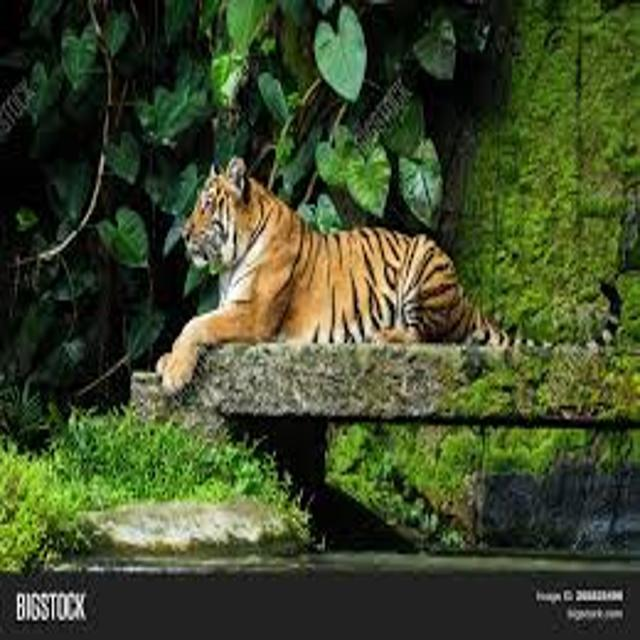Tiger: (165, 146, 519, 434)
